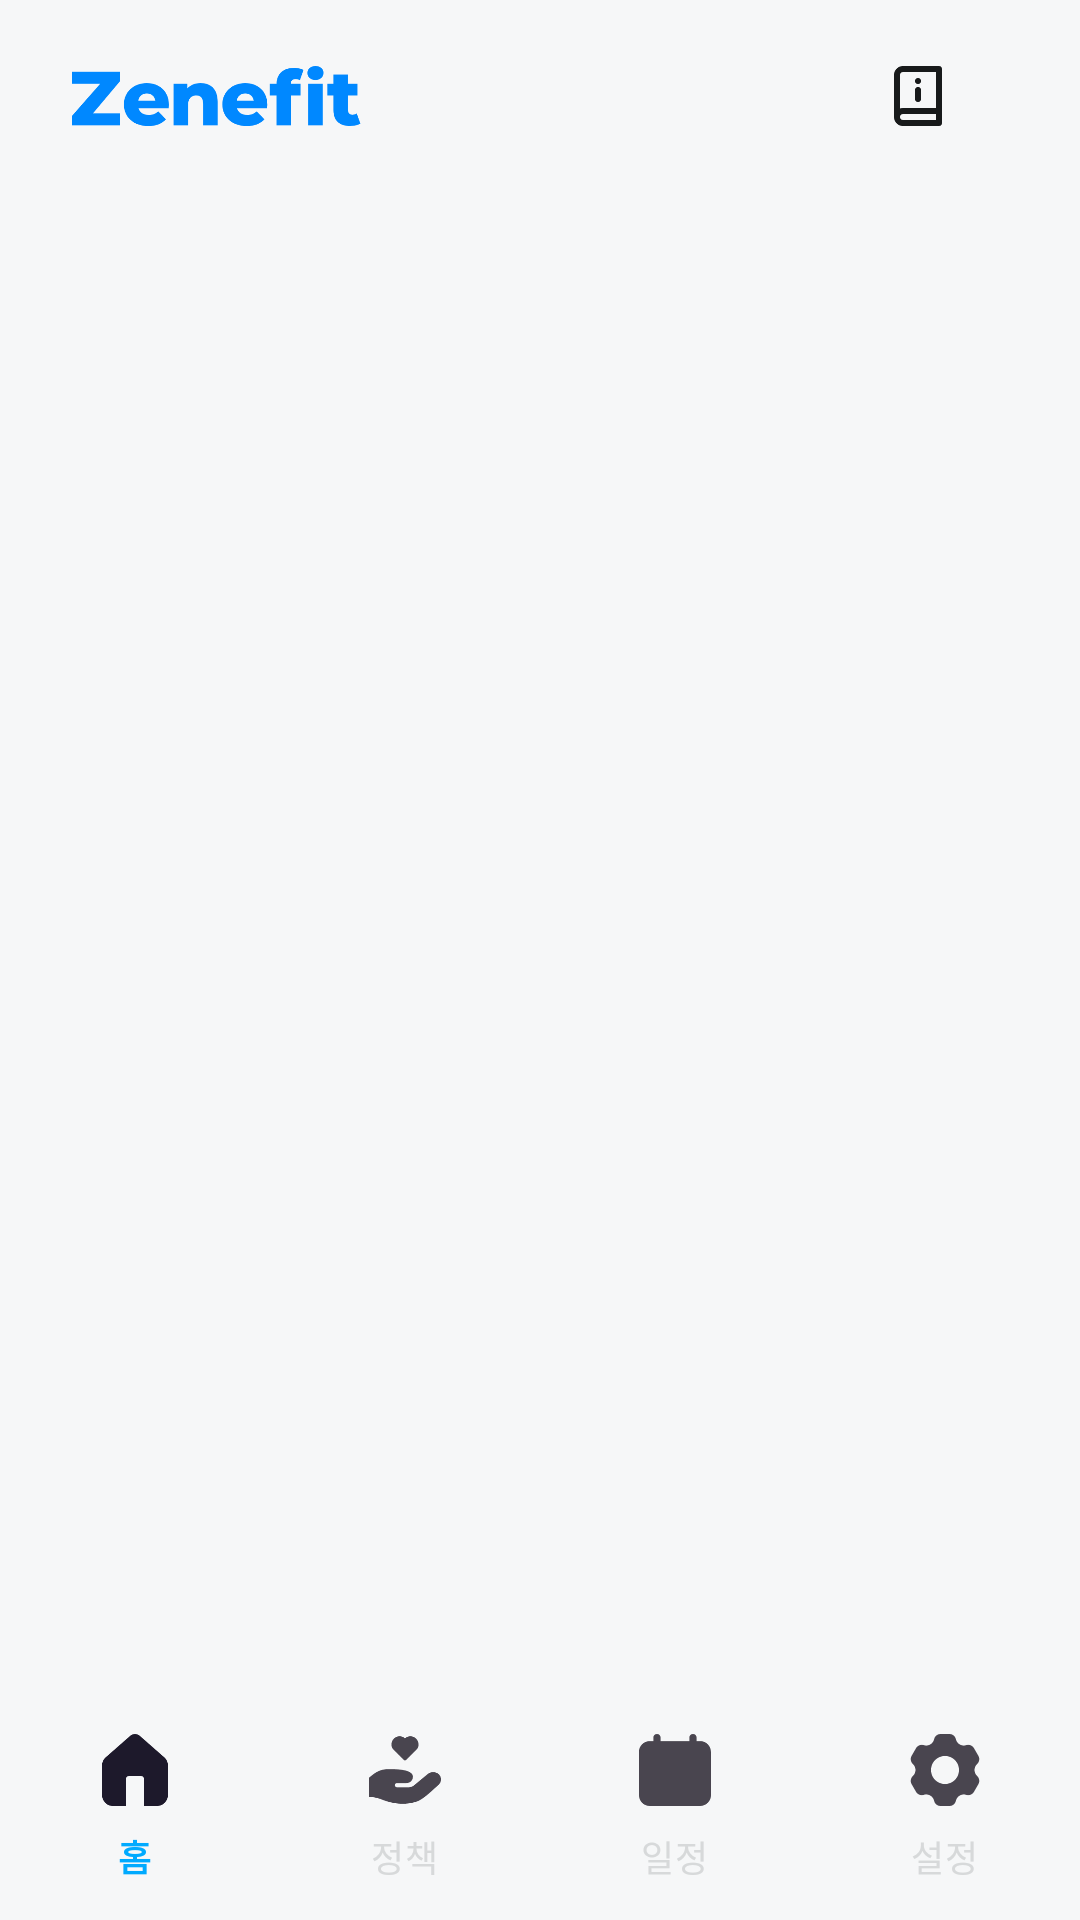

Named icons in this screenshot (1080x1920) and their bounding boxes, (x1, y1, x2, y2):
manual: (894, 66, 942, 126)
